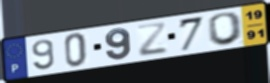0: (63, 32, 91, 69)
7: (175, 16, 207, 53)
9: (103, 26, 134, 62), (30, 38, 56, 71)
O: (207, 11, 246, 47)
Z: (135, 21, 169, 58)
